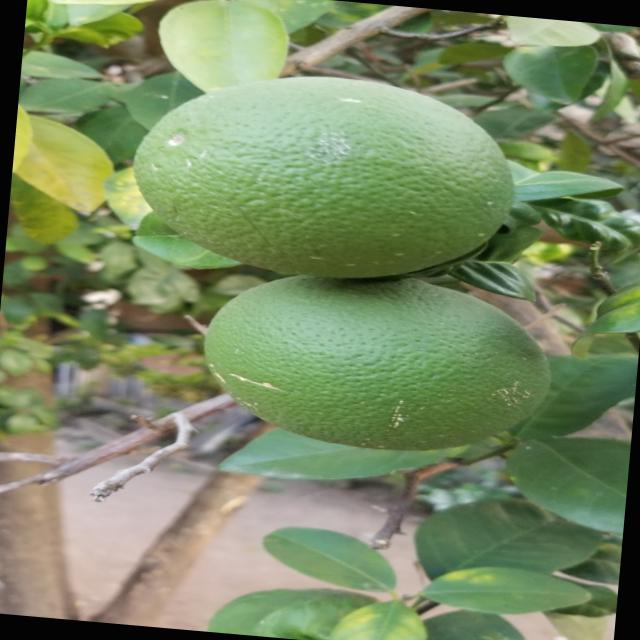Unripe: (122, 55, 530, 296), (188, 255, 566, 468)
